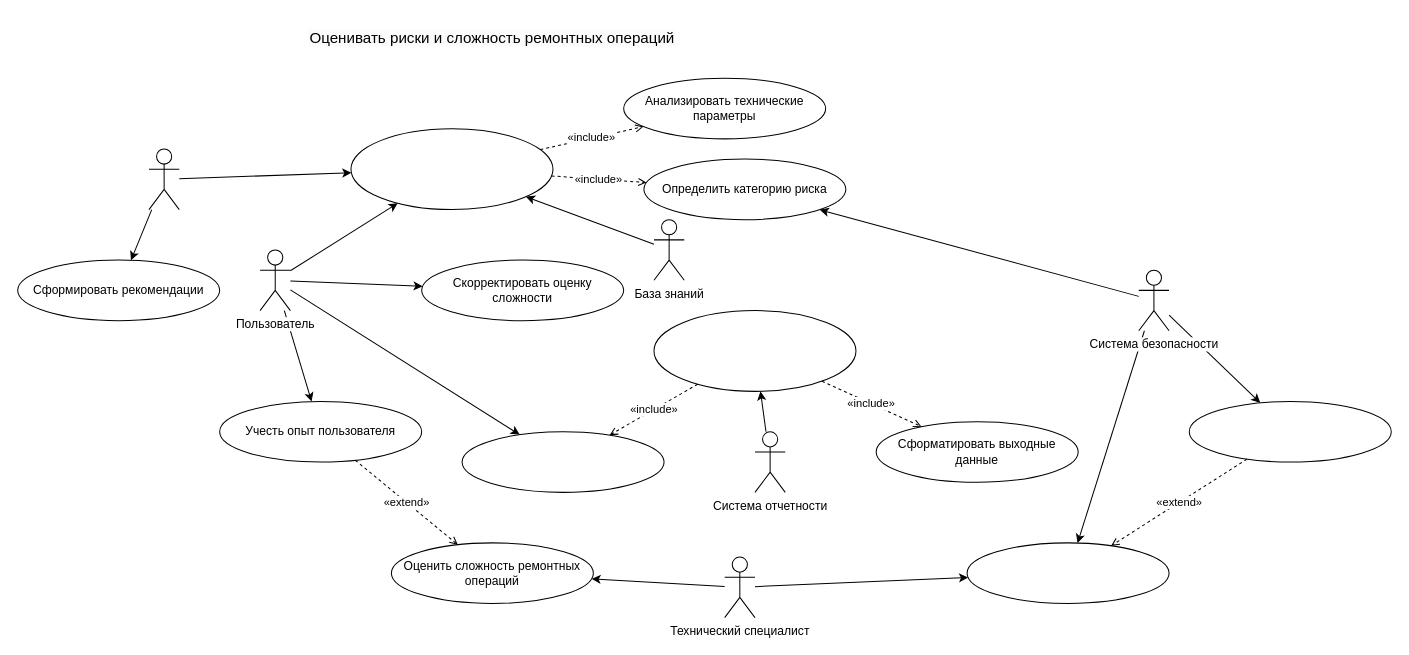
Some shapes in this 1409 by 655 pixel diagram are drawn without their labels. Each missing label, with the centre of its shape:
Выполнить диагностику неисправности: the point at 451,169
ИИ-помощник: the point at 163,179
Предоставить финальные рекомендации: the point at 562,461
Проверить наличие опасных операций: the point at 1289,431
Сгенерировать предупреждения безопасности: the point at 1067,572
Создать отчет о диагностике: the point at 754,350
